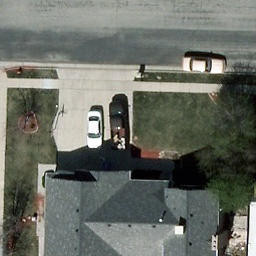car: (82, 112, 106, 150), (182, 57, 226, 75)
pickup: (110, 103, 130, 155)
